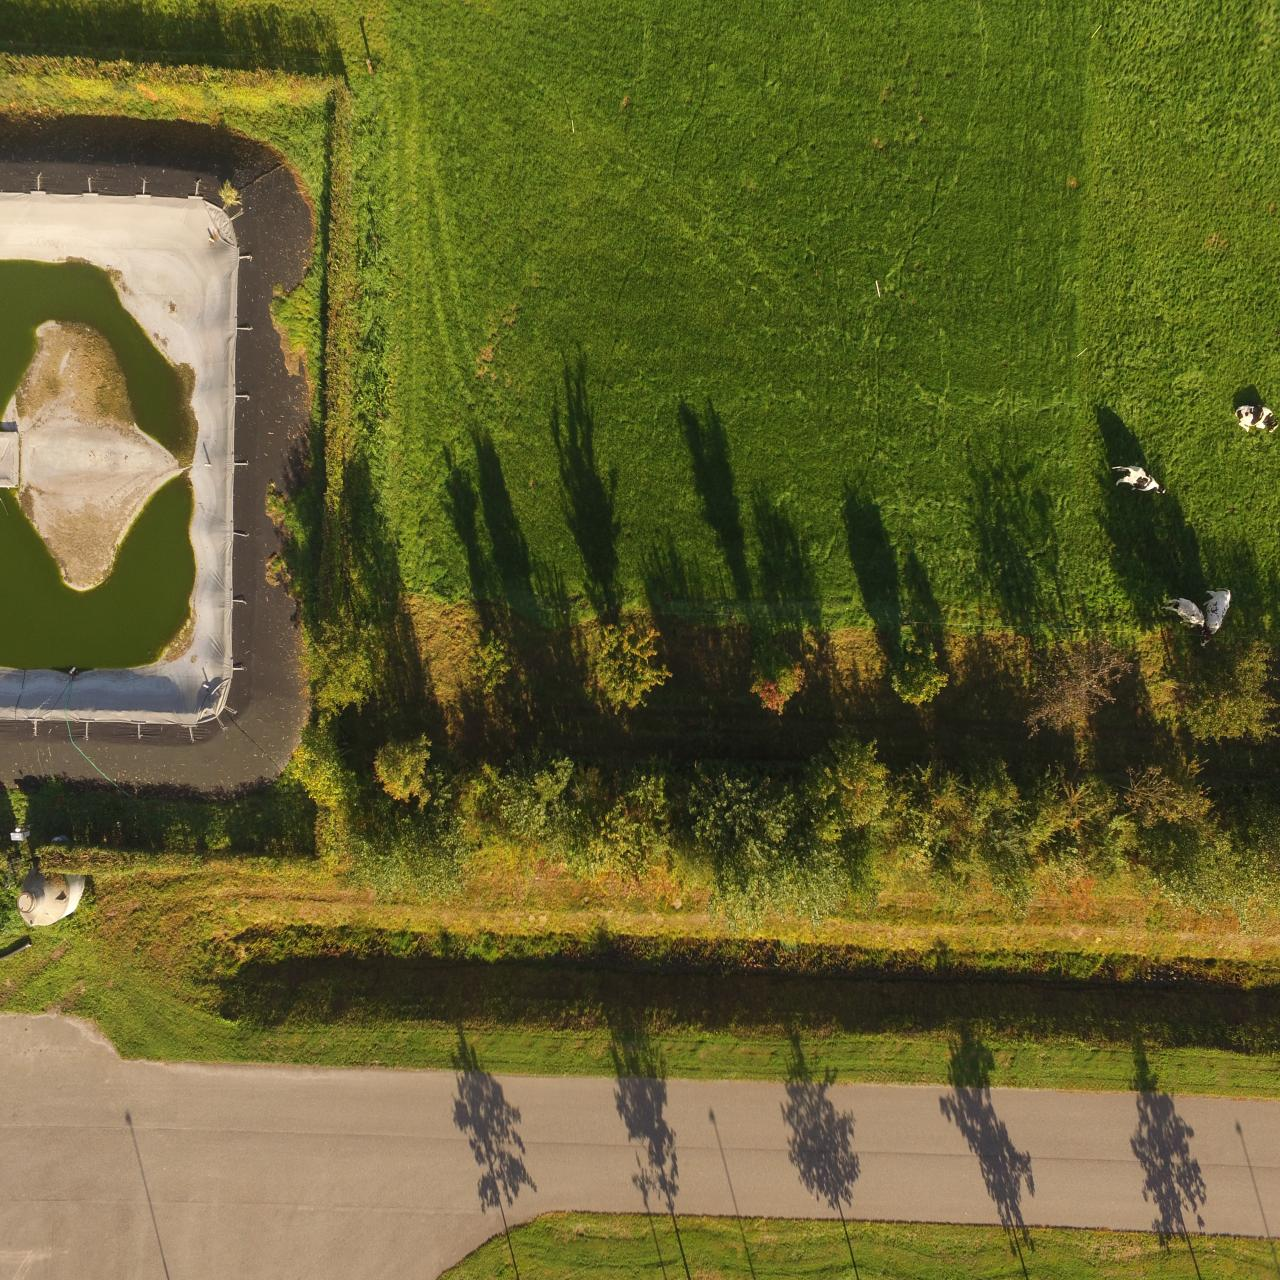cow: (1228, 396, 1280, 452), (1112, 458, 1175, 503), (1162, 588, 1212, 641), (1211, 577, 1242, 646)
